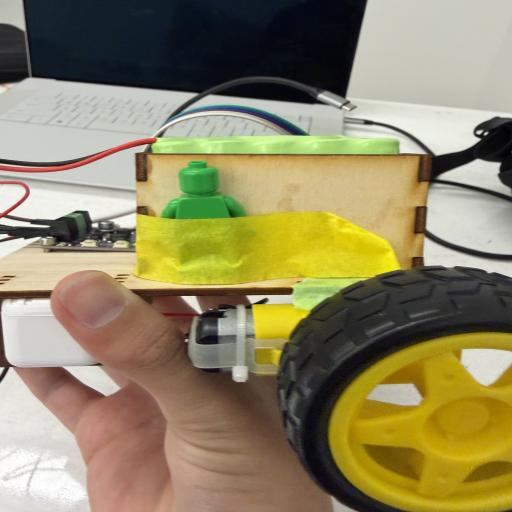Green-Lego: (161, 161, 246, 219)
